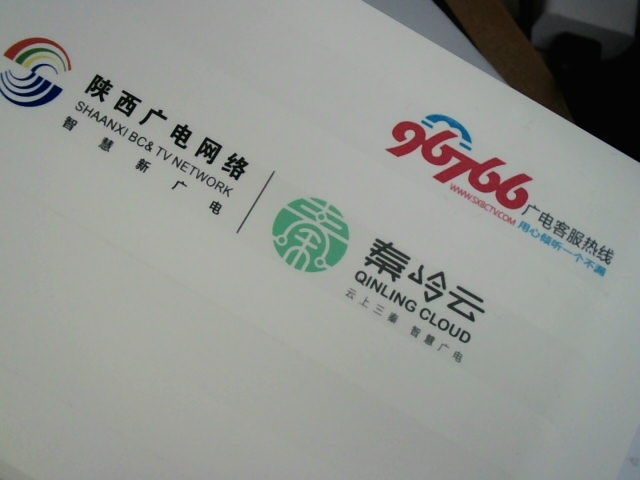QinLing: (269, 190, 487, 372)
